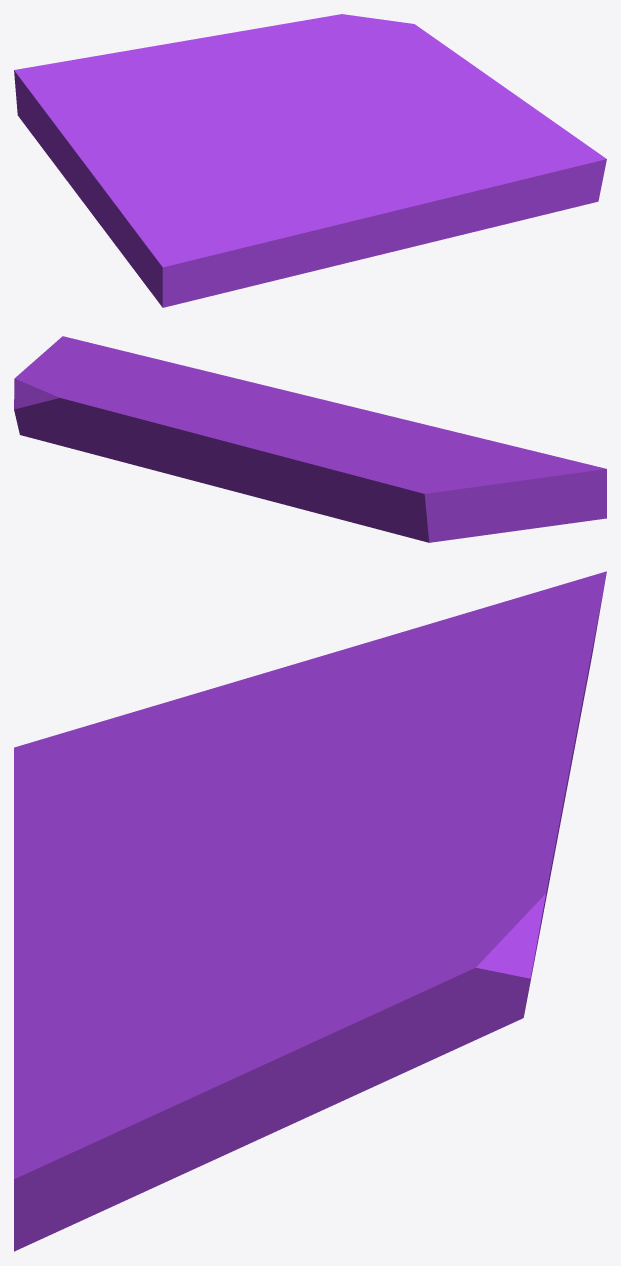
File: Window_153_0_chunks.fbx
3 views of the same model, one above another, from view 1: azimuth 30°, elevation 25°; view 2: azimuth 150°, elevation 25°; view 3: azimuth 270°, elevation 25° (orthographic). The views are drawn at different scales.
Visible parts, largest first — view 1: Window_153_0_10, Window_153_0_4, Window_153_0_3, Window_153_0_2, Window_153_0_7, Window_153_0_8, Window_153_0_5, Window_153_0_1, Window_153_0_13, Window_153_0_9, Window_153_0_6, Window_153_0_12 (+2 smaller); view 2: Window_153_0_5, Window_153_0_7, Window_153_0_4, Window_153_0_10, Window_153_0_1, Window_153_0_3, Window_153_0_0, Window_153_0_2, Window_153_0_9, Window_153_0_8, Window_153_0_6, Window_153_0_11 (+1 smaller); view 3: Window_153_0_10, Window_153_0_4, Window_153_0_9, Window_153_0_3, Window_153_0_2, Window_153_0_7, Window_153_0_8, Window_153_0_5, Window_153_0_1, Window_153_0_6, Window_153_0_11, Window_153_0_13.
Boxes of the visible parts, x1,y1,x2,y2 form: Window_153_0_10: (380,82,606,223); Window_153_0_4: (44,88,246,222); Window_153_0_3: (141,159,334,297); Window_153_0_2: (255,116,508,238); Window_153_0_7: (135,21,306,104); Window_153_0_8: (301,16,399,147); Window_153_0_5: (14,49,169,172); Window_153_0_1: (99,140,264,299); Window_153_0_13: (293,195,446,275); Window_153_0_9: (329,14,496,82); Window_153_0_6: (222,79,310,143); Window_153_0_12: (156,246,294,307); Window_153_0_5: (243,452,481,542); Window_153_0_7: (109,410,320,493); Window_153_0_4: (303,435,545,535); Window_153_0_10: (35,336,235,398); Window_153_0_1: (330,431,601,528); Window_153_0_3: (349,415,606,509); Window_153_0_0: (18,409,172,475); Window_153_0_2: (222,375,350,432); Window_153_0_9: (14,360,96,429); Window_153_0_8: (74,389,246,414); Window_153_0_6: (192,413,342,438); Window_153_0_11: (48,364,155,391); Window_153_0_10: (14,949,303,1251); Window_153_0_4: (212,606,487,814); Window_153_0_9: (276,881,548,1118); Window_153_0_3: (14,722,225,910); Window_153_0_2: (14,823,304,1052); Window_153_0_7: (390,690,584,879); Window_153_0_8: (184,854,552,964); Window_153_0_5: (465,571,606,812); Window_153_0_1: (100,689,278,835); Window_153_0_6: (275,785,401,875); Window_153_0_11: (273,933,417,1044); Window_153_0_13: (14,896,89,980).
Size of the model in its own units: 1152 by 320 by 668.
